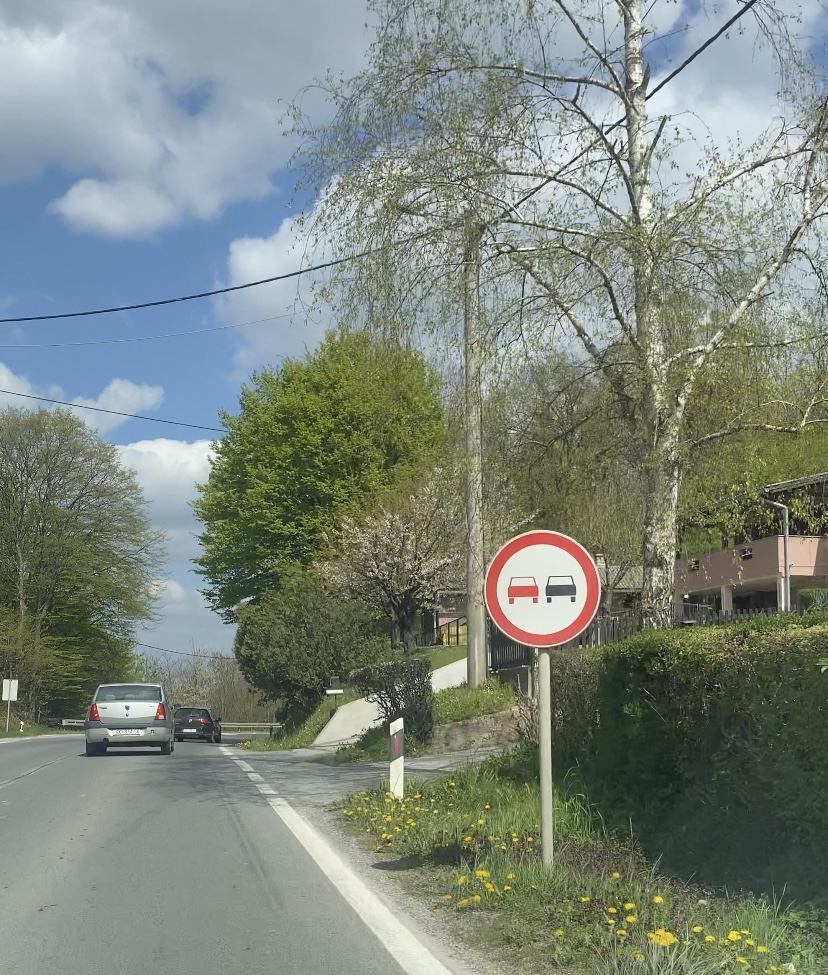Zabrana pretjecanja: (483, 529, 601, 648)
